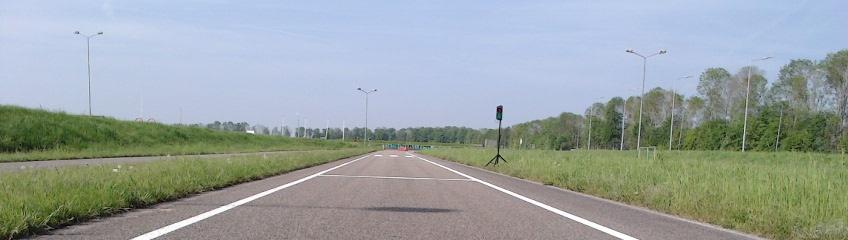TrafficLight-green: (496, 106, 503, 120)
